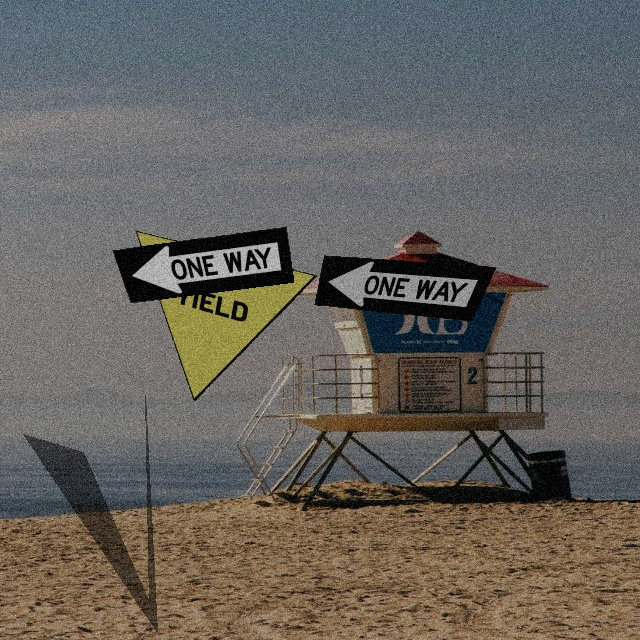NOT_YIELD: (135, 230, 317, 401)
ONE_WAY_ left: (112, 226, 294, 303), (314, 255, 496, 321)
